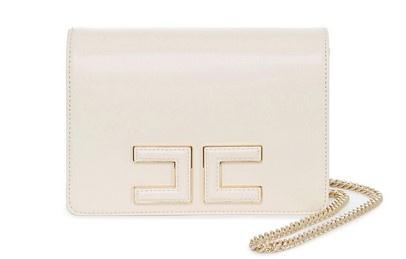ELISABETTA-FRANCHI: (127, 141, 268, 209)
